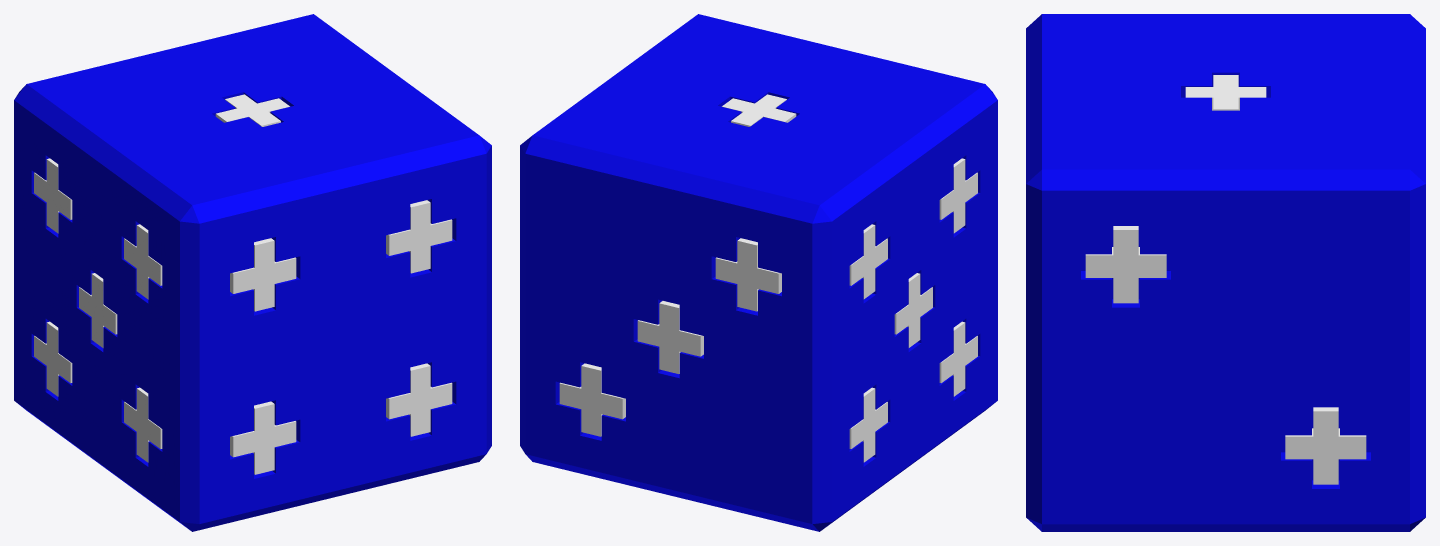
Rendered from 1_plus_dice_blue.gltf.
3 views of the same model, side by side, from view 1: azimuth 30°, elevation 25°; view 2: azimuth 150°, elevation 25°; view 3: azimuth 270°, elevation 25° (orthographic). The views are drawn at different scales.
Parts seen in each view (by area): view 1: D6_Dice_Blue; view 2: D6_Dice_Blue; view 3: D6_Dice_Blue.
Part boxes in pixels (<box>): D6_Dice_Blue: <box>14,14,491,531</box>; D6_Dice_Blue: <box>520,14,997,531</box>; D6_Dice_Blue: <box>1026,14,1425,531</box>.
Bounding box in the file's own units: 2 × 2 × 2.
